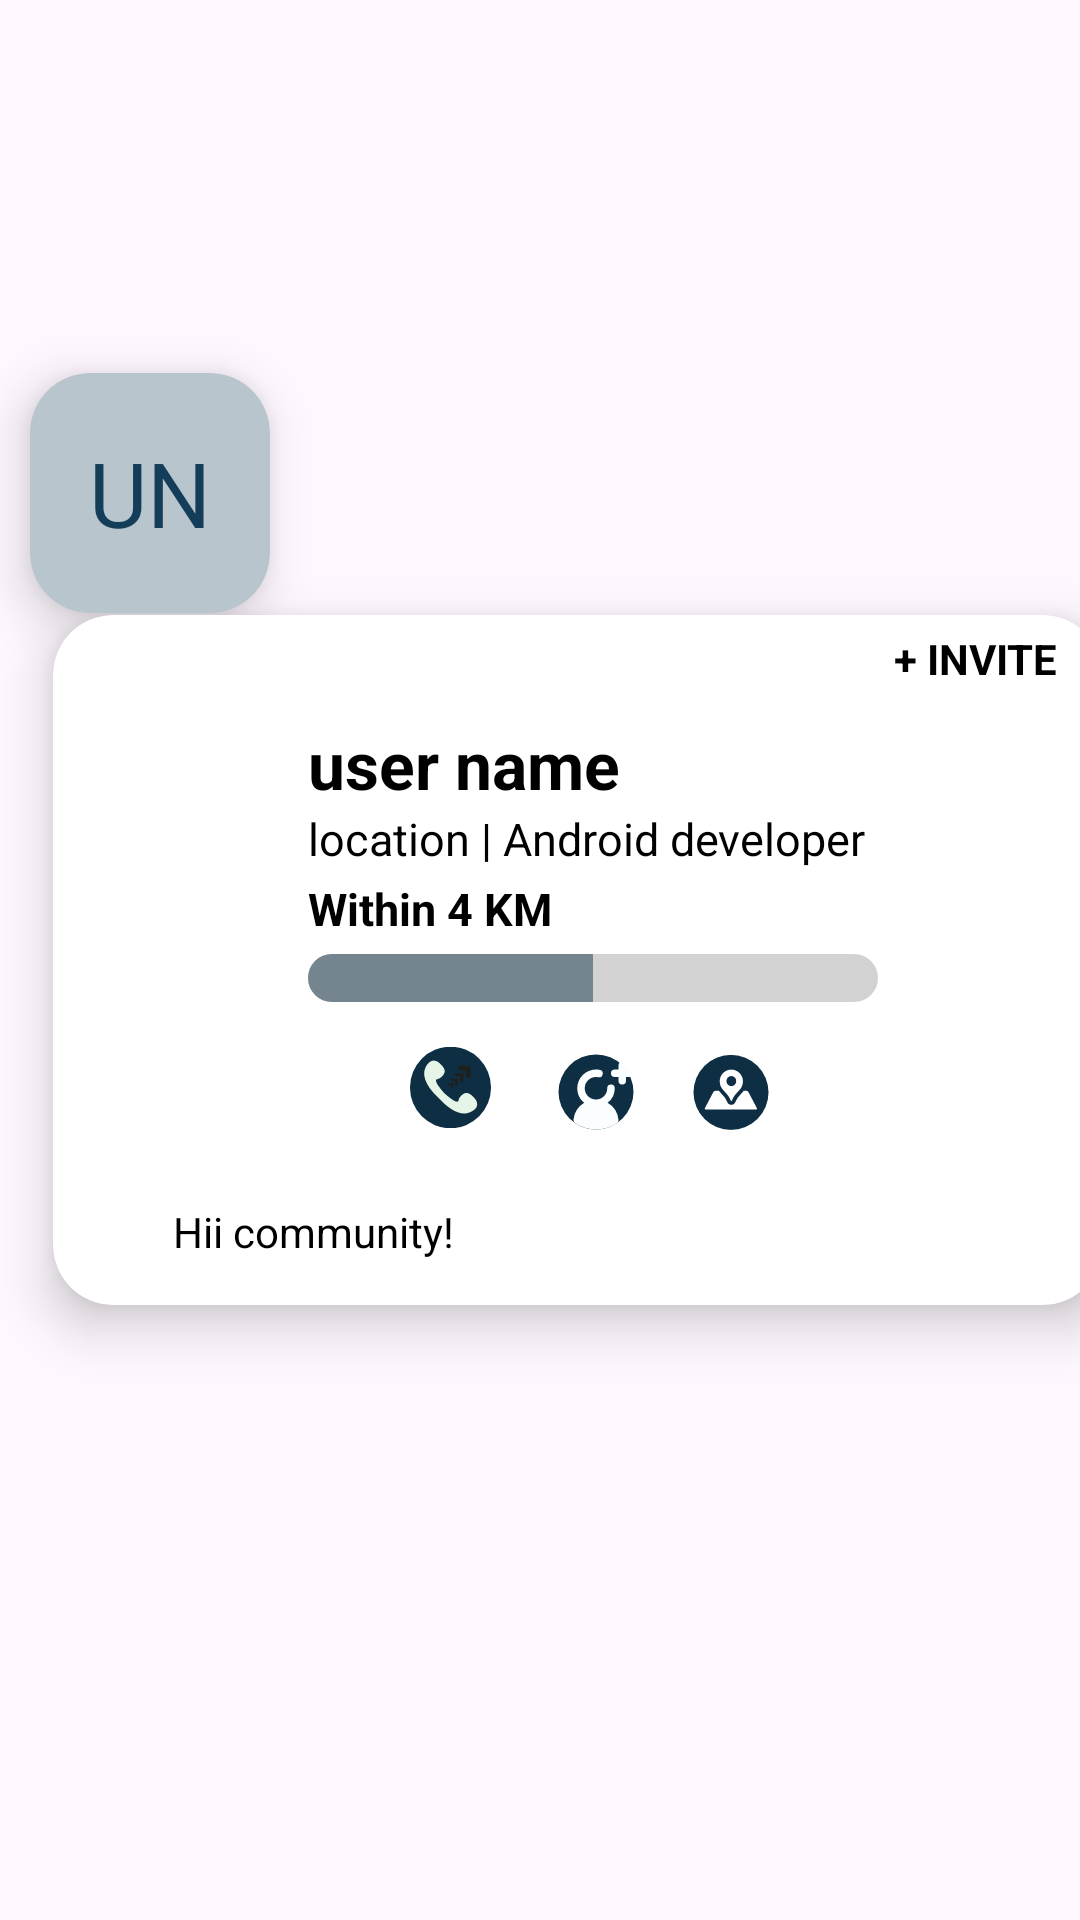

Where to tap for icons on this 1080×1920 app screen, as (x,y):
add friend: (596,1092)
call: (450,1087)
location: (731,1092)
